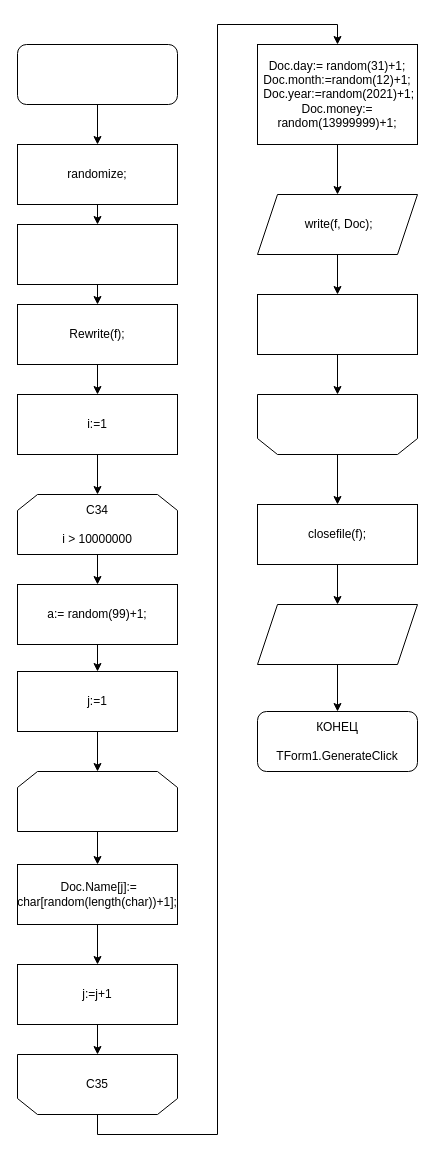
The diagram is 435 pixels wide and 1160 high, and some of its shapes have lost their labels. Here are the shapes that lost their labels. From the top down, the centre of each, then its label:
At (x=97, y=74): "TForm1.GenerateClick НАЧАЛО".
At (x=97, y=254): "AssignFile(f, Path);".
At (x=337, y=324): "i:=i+1".
At (x=337, y=424): "C34".
At (x=337, y=634): "Form1.Label1.Visible:= True;".
At (x=97, y=801): "C35 i > a".
